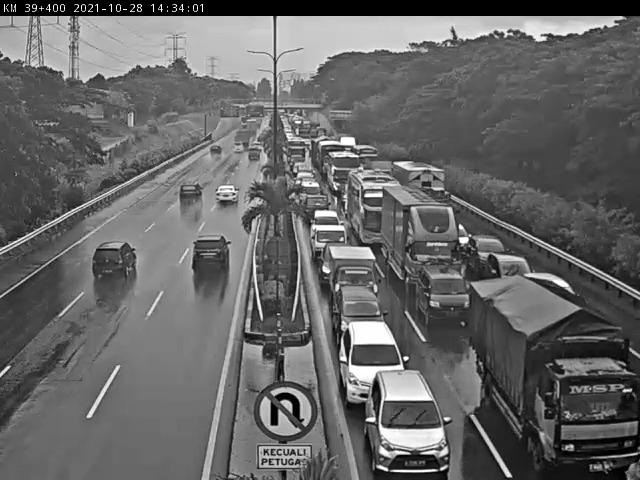big bus: (348, 171, 401, 247), (322, 151, 362, 193)
big truck: (468, 272, 621, 449), (380, 185, 459, 295), (392, 159, 456, 213)
car: (360, 367, 451, 477), (334, 322, 409, 404), (567, 304, 631, 379), (416, 262, 472, 328), (322, 246, 384, 304), (327, 286, 389, 343), (91, 240, 139, 284), (189, 234, 233, 275), (309, 222, 350, 264), (466, 235, 508, 270), (487, 253, 530, 281), (298, 194, 330, 224), (211, 186, 240, 212), (447, 220, 470, 251), (178, 183, 202, 207), (296, 178, 320, 199), (312, 208, 340, 226), (247, 145, 263, 164), (205, 144, 222, 160), (294, 167, 312, 182), (230, 142, 245, 158)
